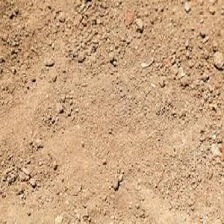sandy_soil: (12, 13, 215, 210)
